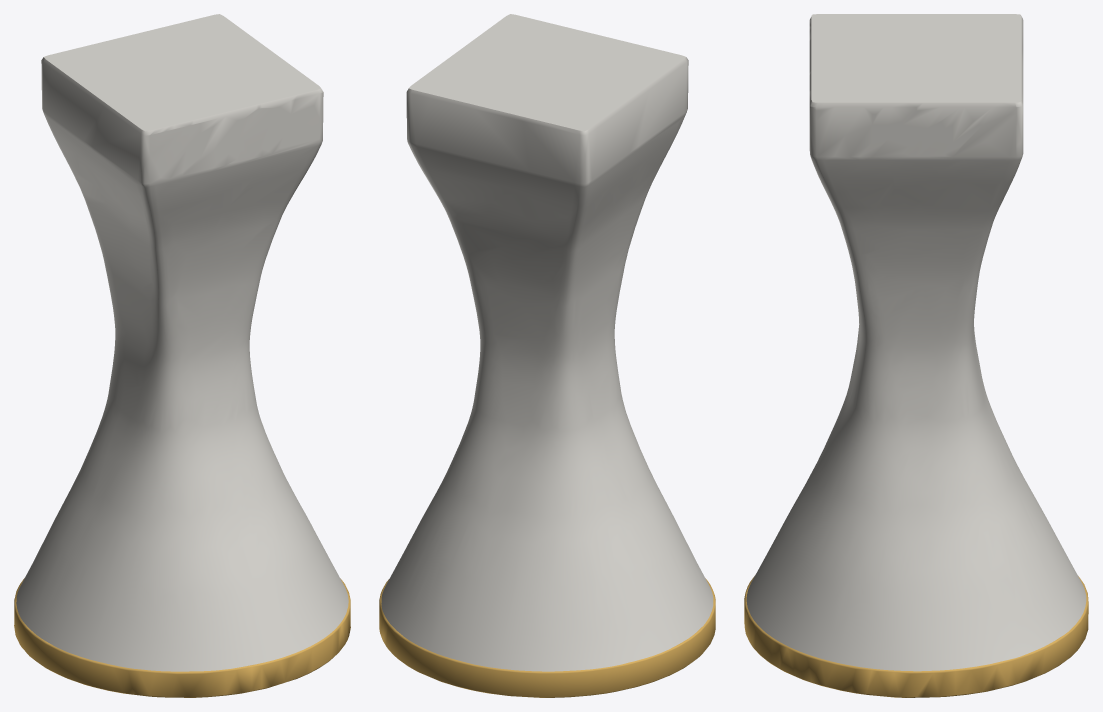
File: rook-white.glb
3 views of the same model, side by side, from view 1: azimuth 30°, elevation 25°; view 2: azimuth 150°, elevation 25°; view 3: azimuth 270°, elevation 25° (orthographic). The views are drawn at different scales.
Parts seen in each view (by area): view 1: 02_vez_telo_0, 02_vez_podstavec; view 2: 02_vez_telo_0, 02_vez_podstavec; view 3: 02_vez_telo_0, 02_vez_podstavec.
Part boxes in pixels (bbox=[...]): 02_vez_telo_0: bbox=[16, 14, 348, 671]; 02_vez_podstavec: bbox=[14, 578, 350, 697]; 02_vez_telo_0: bbox=[381, 14, 713, 671]; 02_vez_podstavec: bbox=[379, 578, 715, 697]; 02_vez_telo_0: bbox=[746, 14, 1086, 671]; 02_vez_podstavec: bbox=[744, 576, 1088, 697].
Size of the model in its own units: 0.7258 by 1.32 by 0.7255.
